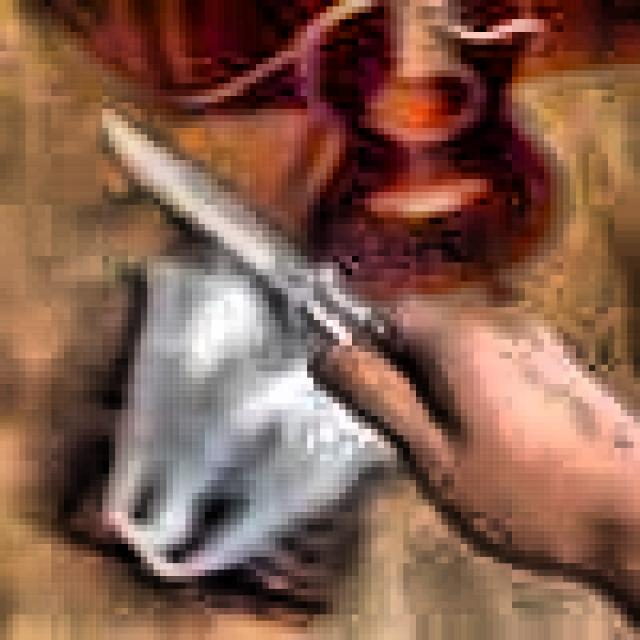knife: (105, 113, 413, 375)
